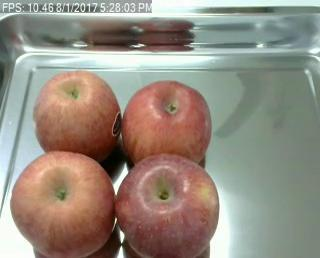apple: (11, 152, 117, 257), (117, 155, 220, 257), (33, 71, 122, 161), (123, 81, 213, 169)
